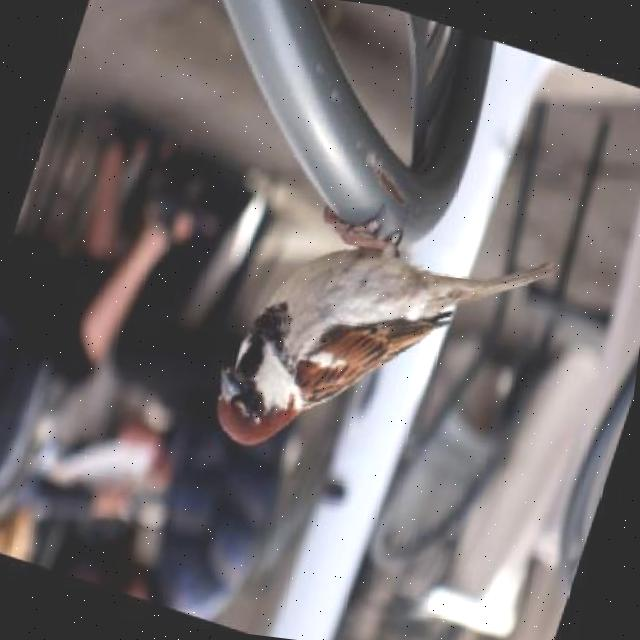sparrow: (192, 184, 549, 523)
